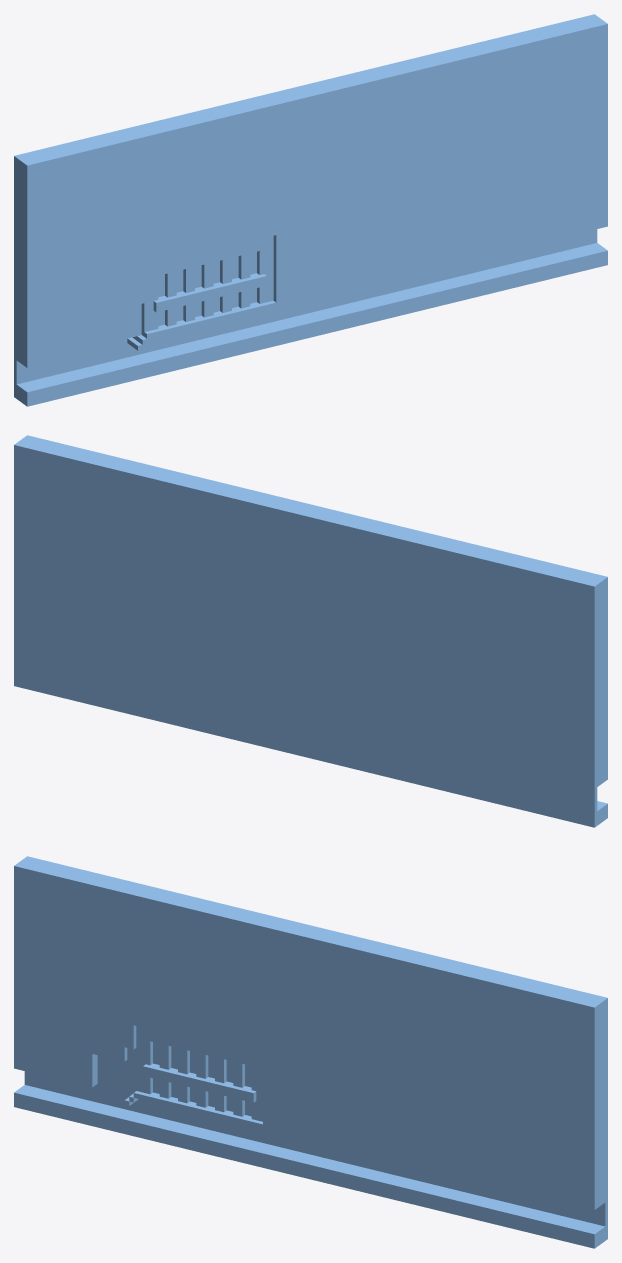
Rendered from map3.obj.
3 renders of one model, top to bottom at view 1: azimuth 30°, elevation 25°; view 2: azimuth 150°, elevation 25°; view 3: azimuth 330°, elevation 25°, orthographic.
Size of the model in its own units: 126 by 50 by 5.
1 material, 1 textured.
